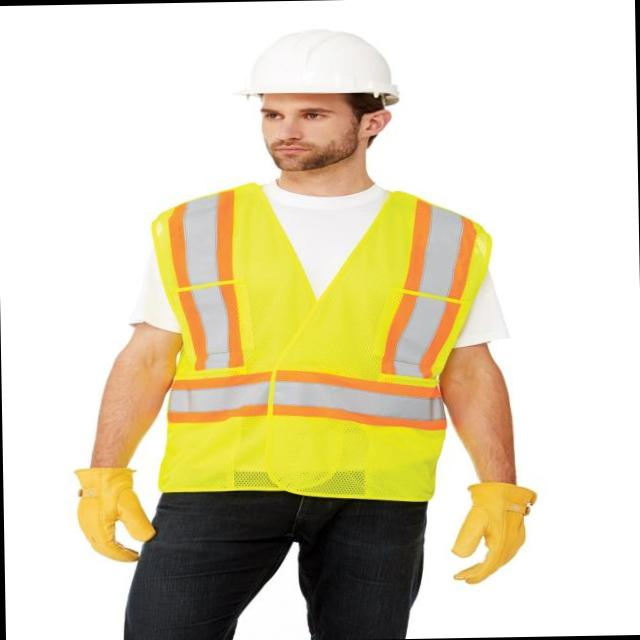Gloves: (442, 476, 548, 587), (66, 461, 164, 564)
Helmet: (226, 20, 408, 110)
Vest: (150, 186, 498, 505)
